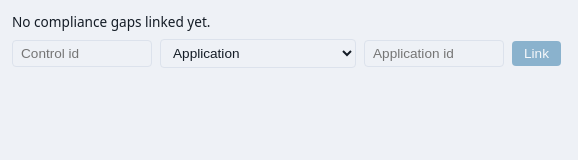
Test: InitiativeControlMappingEditor › shows a confirmation once linking succeeds
Type "CTRL-2" into the field with placeholder "Control id" at (82, 53), box 12,40 -> 152,67
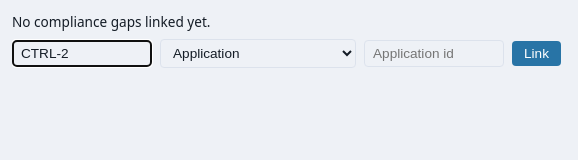
Type "APP-2" into the field with placeholder "Application id" at (434, 53), box 364,40 -> 504,67
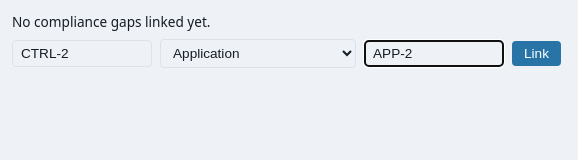
Click the button "Link" at (536, 53), box 512,41 -> 561,66
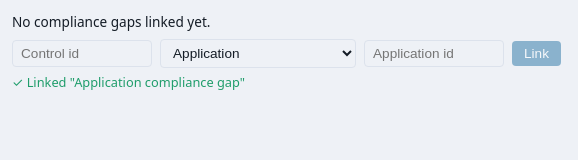
Now the text "✓ Linked \"Application compliance gap\"" is shown, box 12,73 -> 245,91
